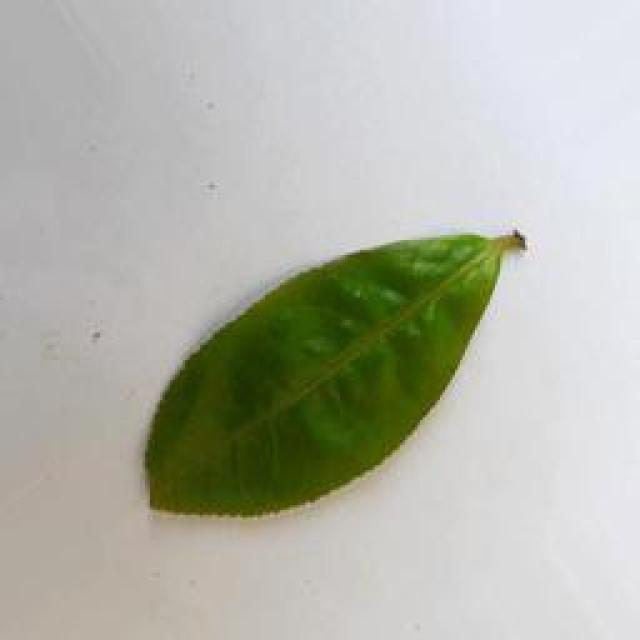Healthy: (141, 216, 530, 522)
